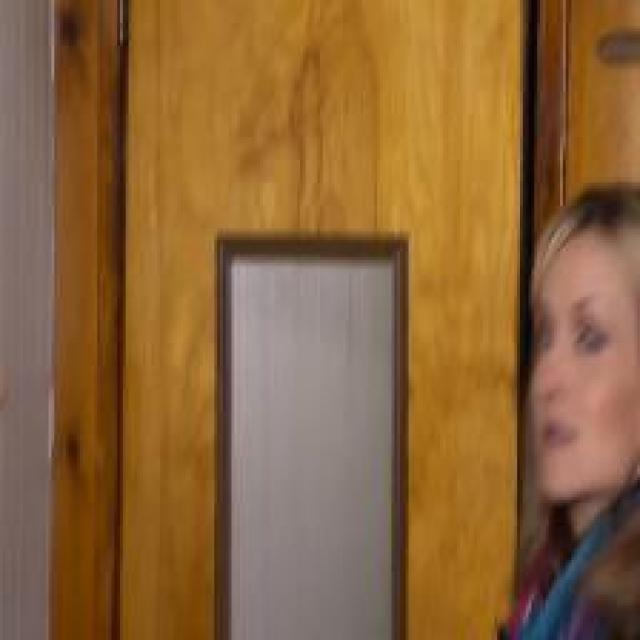other: (239, 287, 371, 624)
